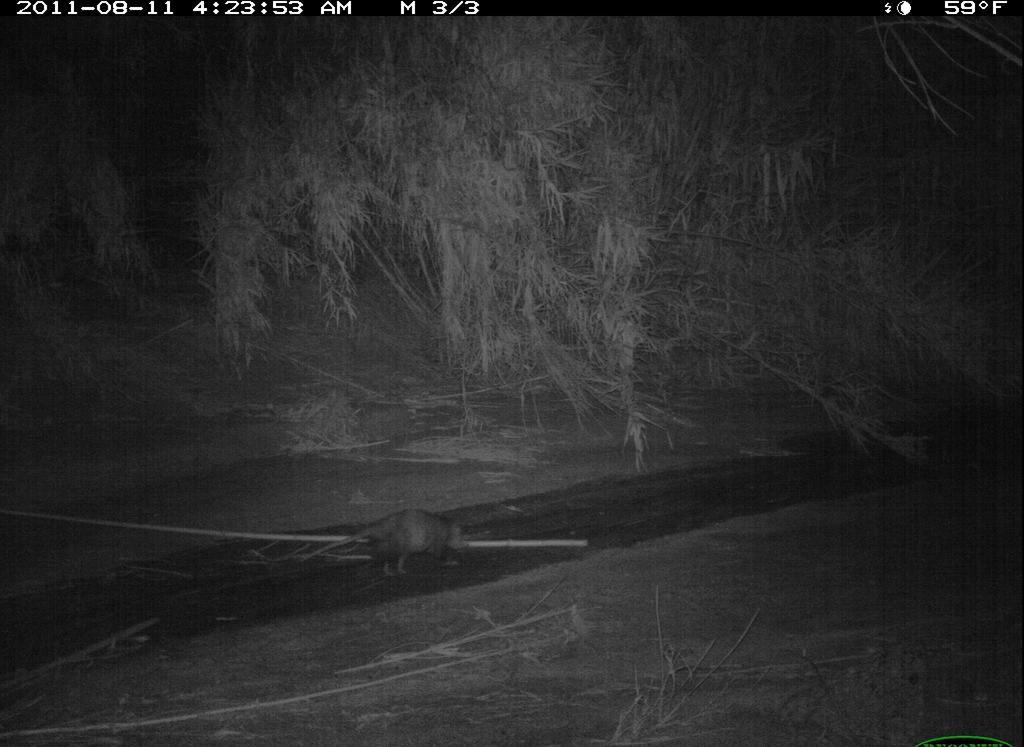opossum: (296, 496, 493, 596)
